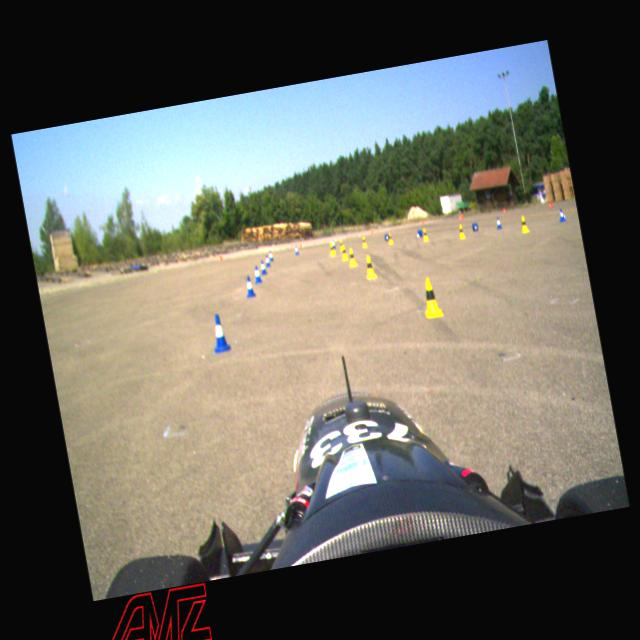blue_cone: (207, 312, 230, 353), (242, 274, 255, 298), (252, 264, 262, 284), (556, 206, 566, 222), (258, 259, 267, 275), (494, 216, 504, 229), (264, 254, 271, 266), (268, 250, 274, 260), (330, 238, 336, 248), (294, 243, 298, 255)
orange_cone: (458, 213, 463, 220), (218, 255, 222, 262), (370, 228, 374, 234), (502, 207, 506, 213), (300, 244, 304, 248)
yellow_cone: (418, 274, 444, 320), (362, 254, 377, 278), (519, 213, 530, 233), (456, 220, 466, 239), (346, 247, 356, 263), (327, 240, 335, 256), (340, 246, 348, 262), (421, 226, 428, 242), (338, 238, 346, 252), (386, 232, 394, 245), (360, 235, 368, 248)
